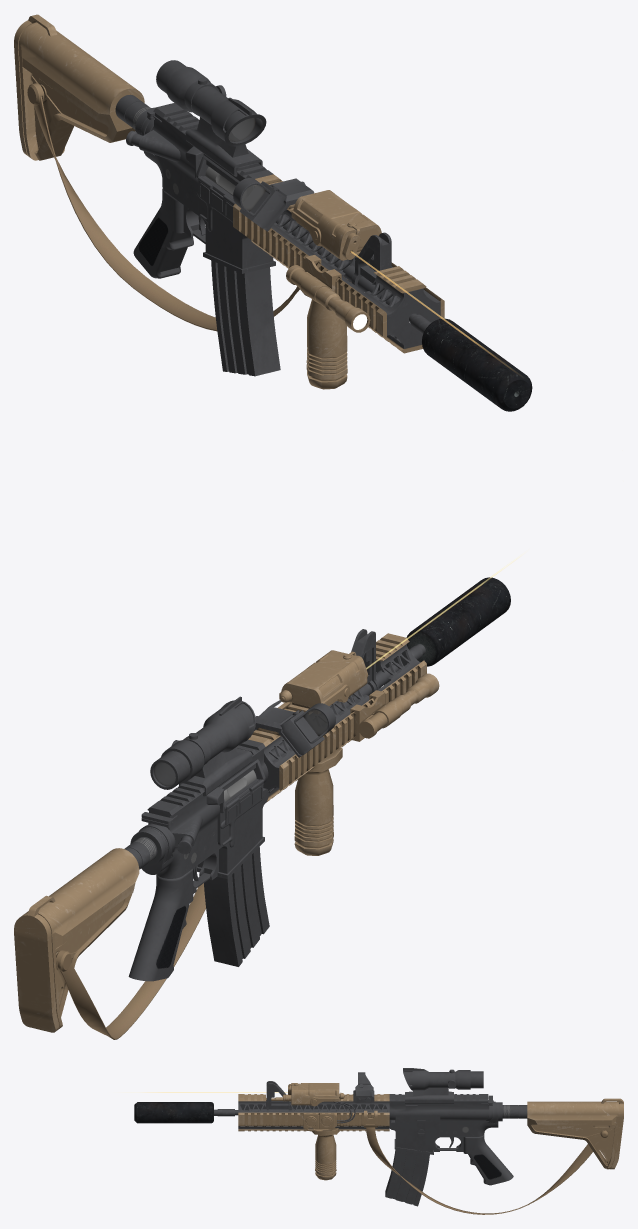
The model's file is m4_sopmod.glb.
The picture shows the model from 3 angles, top to bottom: view 1: azimuth 30°, elevation 25°; view 2: azimuth 150°, elevation 25°; view 3: azimuth 270°, elevation 25°; orthographic projection. The views are drawn at different scales.
Parts seen in each view (by area): view 1: Object_9, Object_11, Object_7, Object_12, Object_13, Object_5; view 2: Object_9, Object_11, Object_7, Object_12, Object_13; view 3: Object_9, Object_11, Object_7, Object_12.
Part boxes in pixels (x1,y1,x2,y2): Object_9: (115, 60, 532, 411); Object_11: (14, 14, 444, 389); Object_7: (27, 83, 299, 331); Object_12: (239, 178, 416, 346); Object_13: (228, 117, 265, 211); Object_5: (163, 110, 373, 276); Object_9: (124, 577, 510, 981); Object_11: (14, 633, 439, 1032); Object_7: (56, 883, 205, 1039); Object_12: (252, 638, 420, 798); Object_13: (154, 709, 327, 786); Object_9: (134, 1068, 527, 1206); Object_11: (238, 1083, 623, 1180); Object_7: (366, 1127, 608, 1214); Object_12: (244, 1094, 383, 1125).
Bounding box in the file's own units: 1.56 × 4.23 × 16.64.
Materials: 8 (5 with a texture image).
